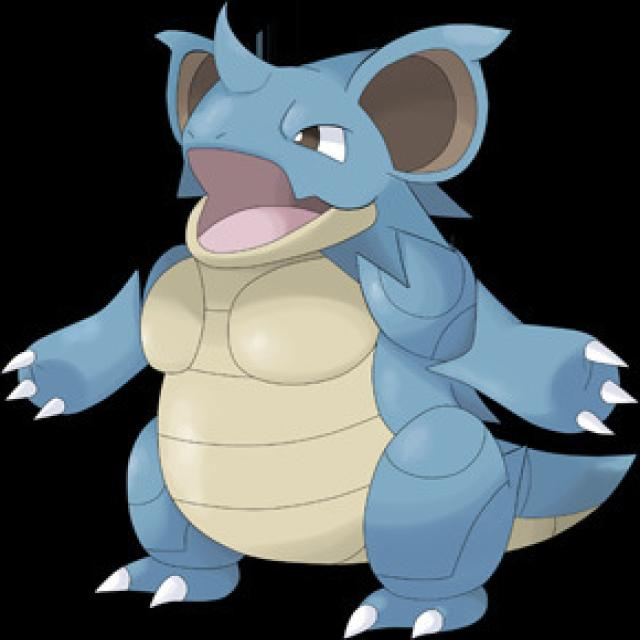Nidoqueen: (95, 22, 550, 610)
